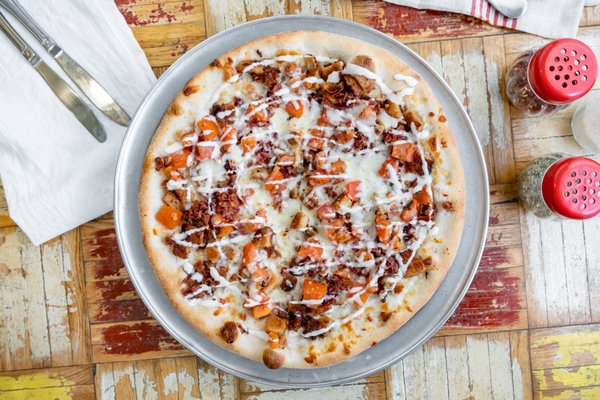sandwich: (0, 1, 132, 142)
